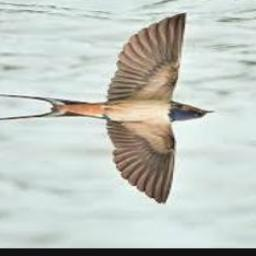Swallow: (0, 14, 215, 205)
